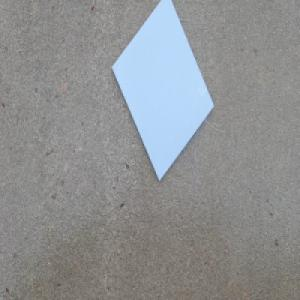PaintChip: (110, 0, 215, 181)
